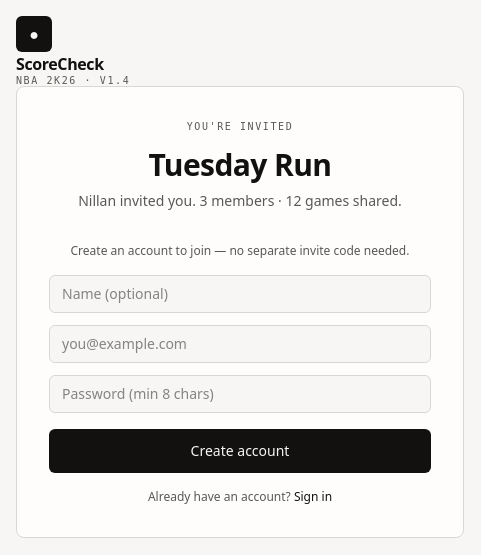
it: a logged-out visitor › ignores a programmatic re-submit while one is in flight
Later steps or results of the test are not shown.
Type "a@b.c" into the field with placeholder "you@example.com" at (240, 344), box [49,325,431,363]
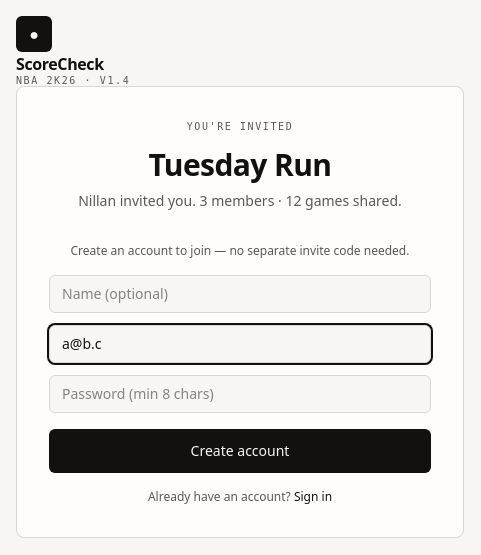
Type "hunter2000" into the password field with placeholder "Password (min 8 chars)" at (240, 394), box [49,375,431,413]
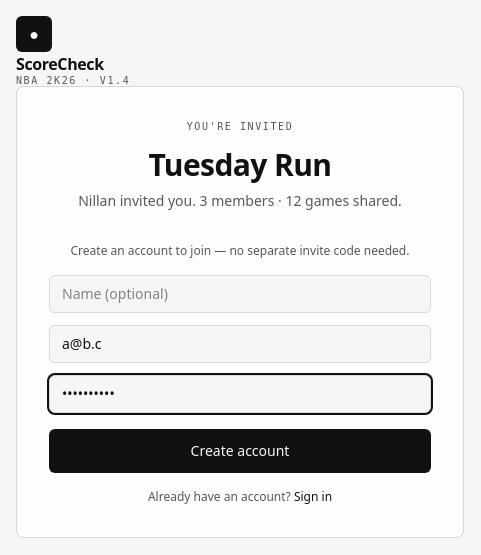
Submit the form with placeholder "you@example.com", box [49,275,431,473]
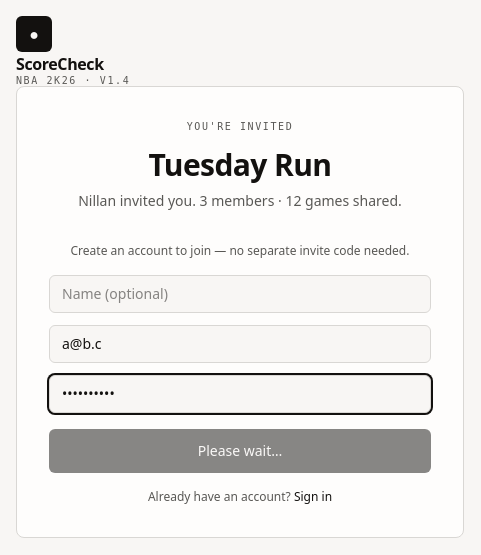
Now the button "Please wait…" is shown, box [49,429,431,473]
